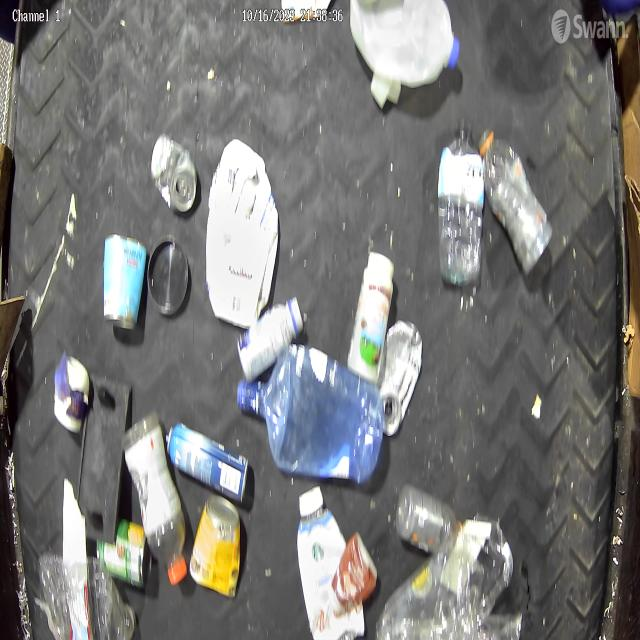can: (165, 421, 250, 501), (377, 318, 424, 438), (188, 494, 242, 598), (102, 232, 148, 329), (96, 518, 152, 593), (150, 132, 198, 214)
milk_jug: (206, 137, 280, 329), (349, 0, 461, 88)
plastic_bottle: (236, 342, 384, 486), (121, 408, 187, 588), (477, 125, 555, 276), (38, 551, 136, 640), (436, 118, 485, 287)
